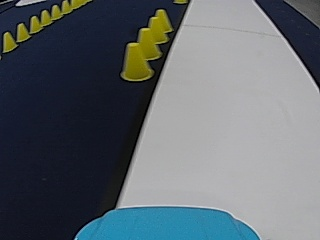cone: (119, 40, 152, 81), (134, 27, 159, 60), (146, 15, 166, 44), (153, 8, 172, 33), (2, 31, 16, 52), (15, 22, 29, 41), (29, 15, 41, 33), (39, 9, 51, 25), (50, 4, 61, 19), (61, 0, 70, 13)
